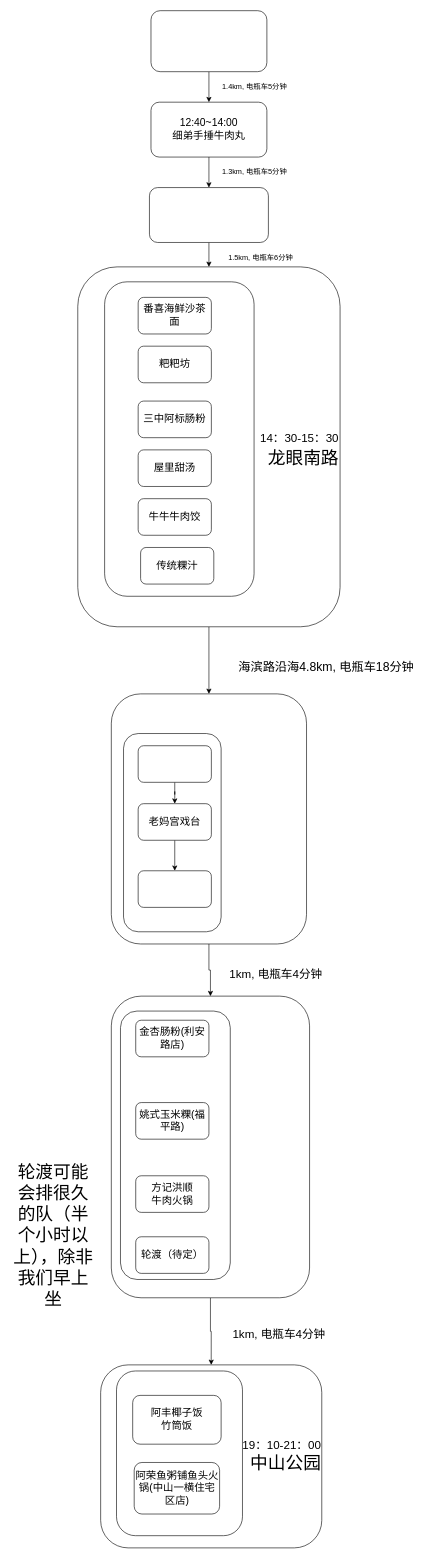
Some shapes in this 442 by 1559 pixel diagram are drawn without their labels. The box of each missing label's shape, as (x1, y1, x2, y2) in pixels:
12：30 在民宿 停车: (150, 10, 267, 72)
14：00~14:30 民宿 放东西: (149, 187, 268, 242)
16：00-17：30 小公园: (111, 693, 307, 944)
17：40-19：00 十二中 美食街: (111, 996, 310, 1298)
开埠文化馆: (138, 870, 211, 907)
西提公园: (138, 745, 211, 782)
